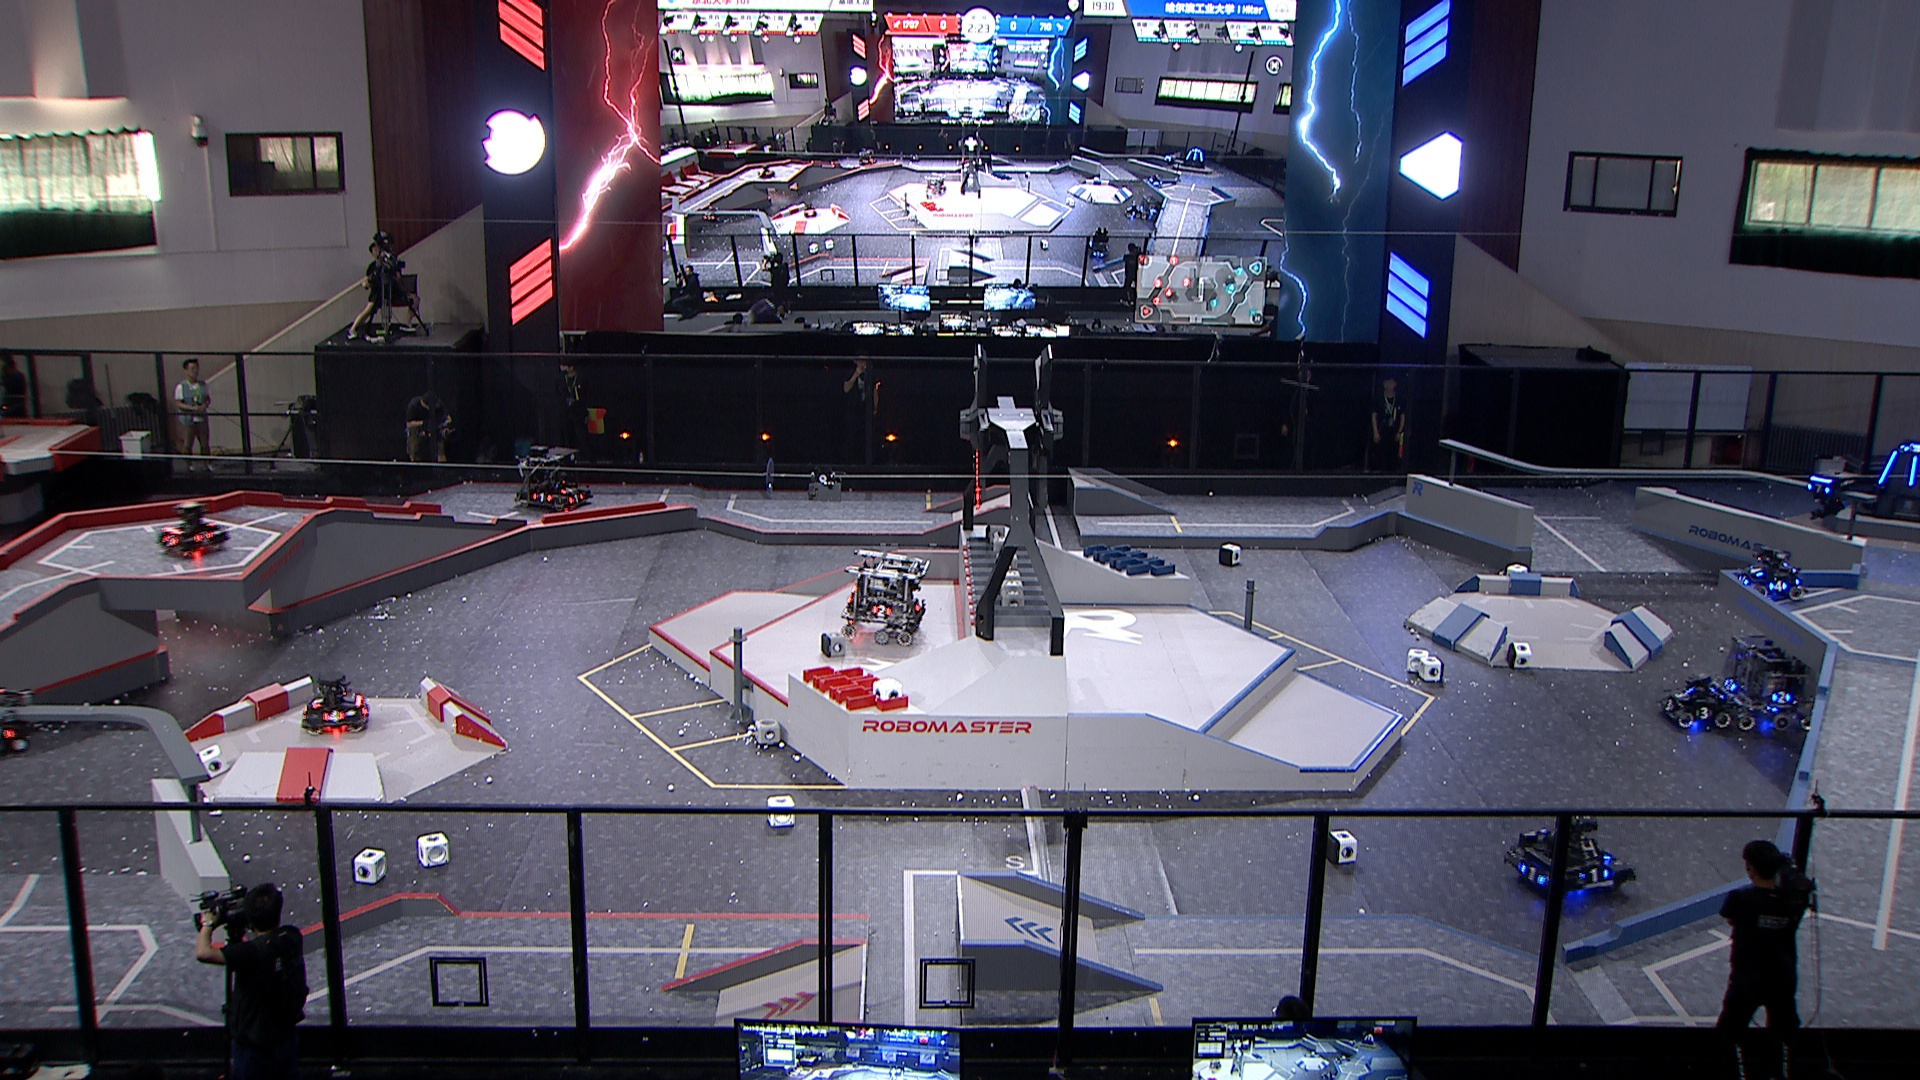armor: (1878, 451, 1899, 487), (1520, 861, 1548, 887), (1577, 865, 1610, 884), (1908, 454, 1920, 488), (1695, 704, 1714, 723), (1768, 690, 1793, 704), (160, 531, 181, 549), (193, 531, 215, 547), (320, 711, 348, 723), (1807, 483, 1832, 495), (1724, 678, 1741, 695), (872, 604, 891, 618), (1671, 690, 1692, 703), (1749, 566, 1766, 579), (531, 493, 555, 502), (1768, 579, 1787, 591), (309, 698, 324, 711), (1902, 444, 1920, 455), (558, 485, 579, 495), (1664, 698, 1676, 713), (568, 495, 585, 505), (1735, 575, 1753, 585)
base: (1851, 443, 1920, 526)
car: (1505, 816, 1638, 903), (1718, 628, 1822, 733), (840, 549, 932, 645), (516, 443, 593, 514), (301, 673, 372, 736), (153, 501, 231, 556), (1735, 545, 1809, 603), (1660, 673, 1731, 731)
ignore: (1088, 225, 1112, 258), (1183, 146, 1207, 169), (924, 175, 948, 196), (1143, 196, 1163, 220), (1124, 200, 1145, 222), (856, 149, 880, 166), (702, 204, 721, 224), (760, 162, 775, 182), (803, 200, 818, 220), (1149, 173, 1164, 190), (1163, 153, 1176, 167)
watcher: (1807, 467, 1859, 520)
